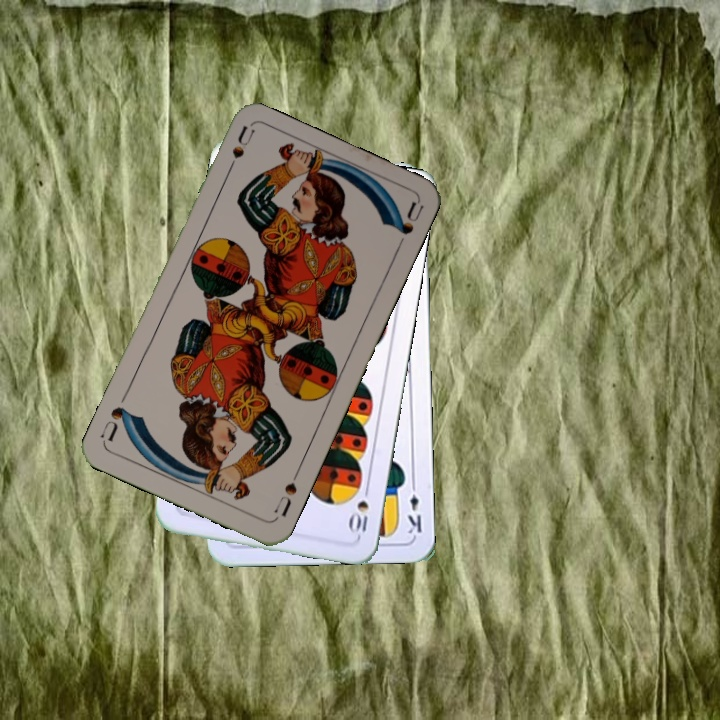EK: (403, 477, 424, 536)
S10: (345, 480, 372, 539)
SU: (221, 123, 257, 181), (270, 466, 302, 520)
